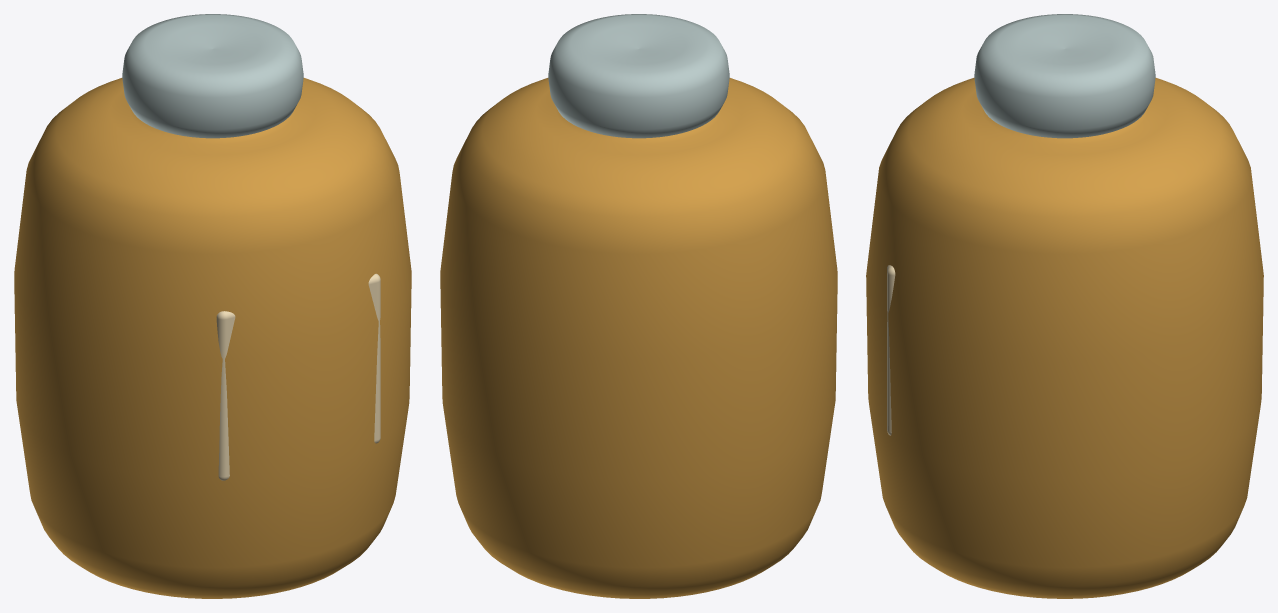
Rendered from bonus-energy.glb.
3 renders of one model, left to right at view 1: azimuth 30°, elevation 25°; view 2: azimuth 150°, elevation 25°; view 3: azimuth 270°, elevation 25°, orthographic.
Parts seen in each view (by area): view 1: brass, steel, cream; view 2: brass, steel; view 3: brass, steel, cream.
Boxes of the visible parts, box(x1,y1,x2,y2) form: brass: box(14, 78, 411, 598); steel: box(122, 14, 303, 138); cream: box(216, 273, 380, 480); brass: box(440, 78, 837, 598); steel: box(548, 14, 729, 138); brass: box(866, 78, 1263, 598); steel: box(974, 14, 1155, 138); cream: box(887, 265, 895, 435).
Bounding box in the file's own units: 0.5293 × 0.7352 × 0.5293.
